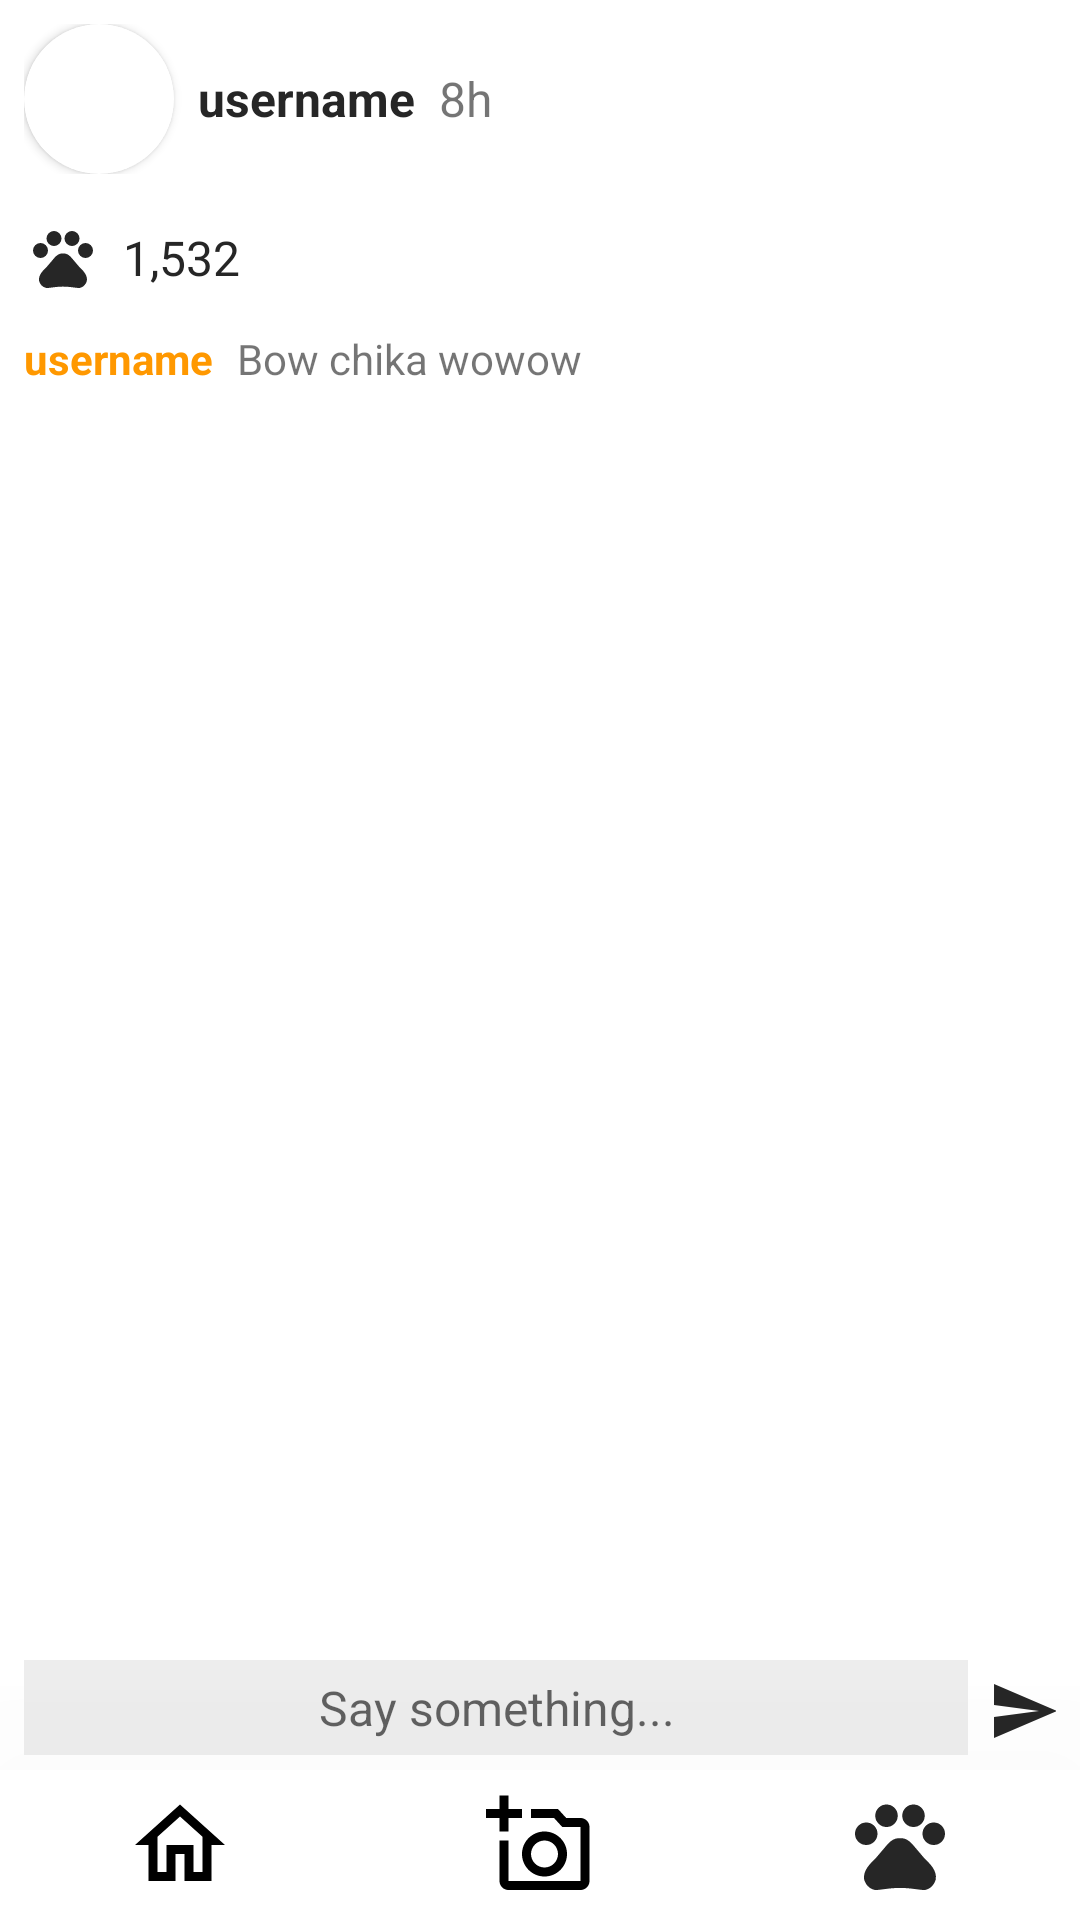

Point at icon controls on the screen. Image size 1080w x 1920h, points as [x,y].
add photo: [538,1842]
home: [180,1842]
pets: [63,259], [900,1847]
send: [1025,1711]
